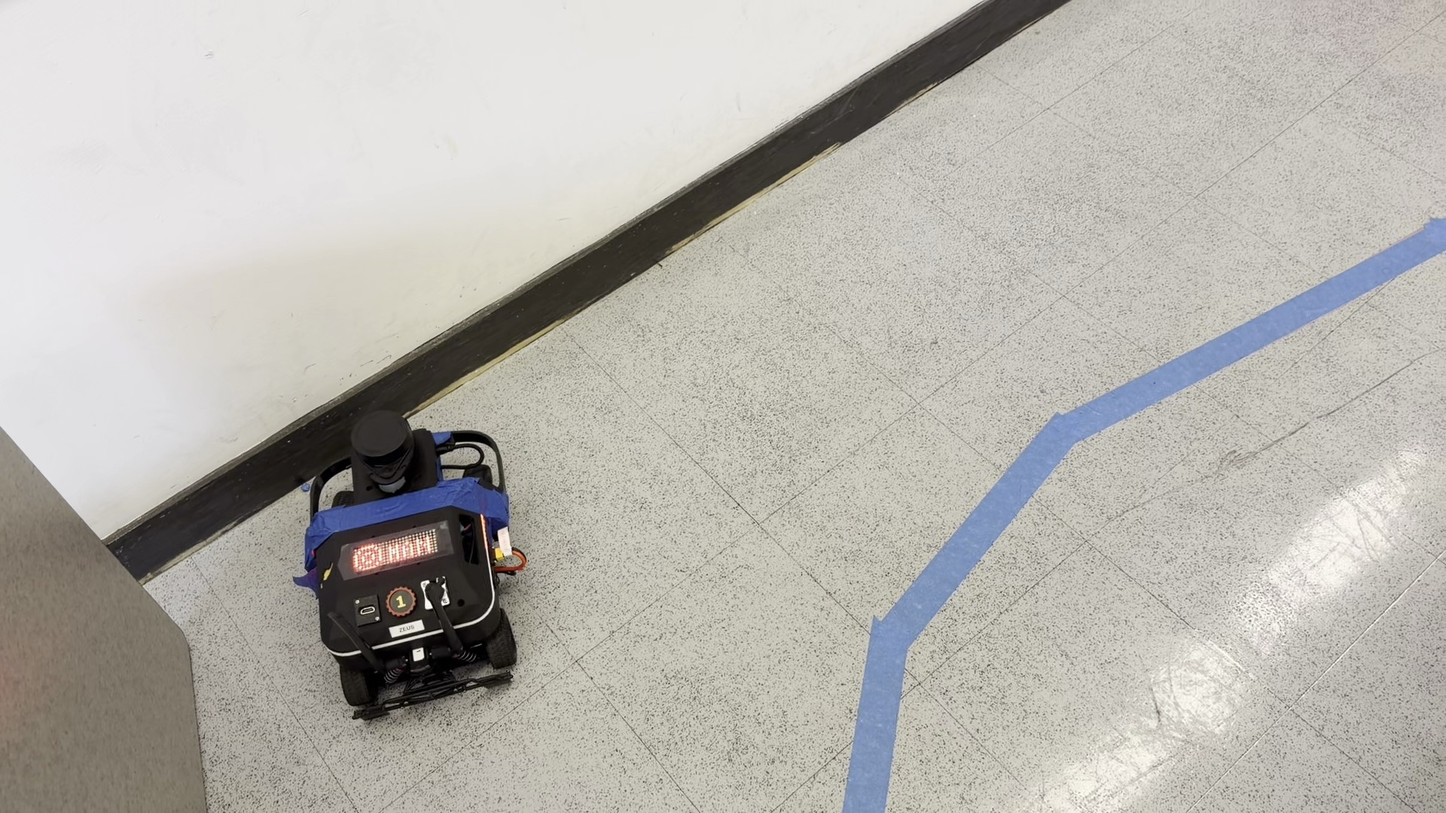racecar: (295, 417, 527, 715)
